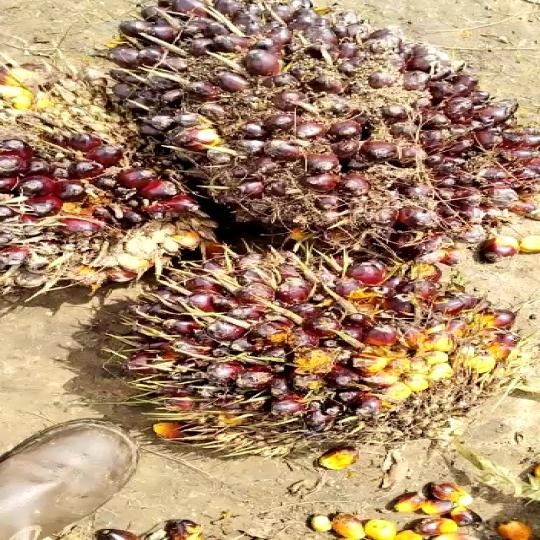kurang masak: (86, 0, 538, 271), (86, 250, 529, 458)
